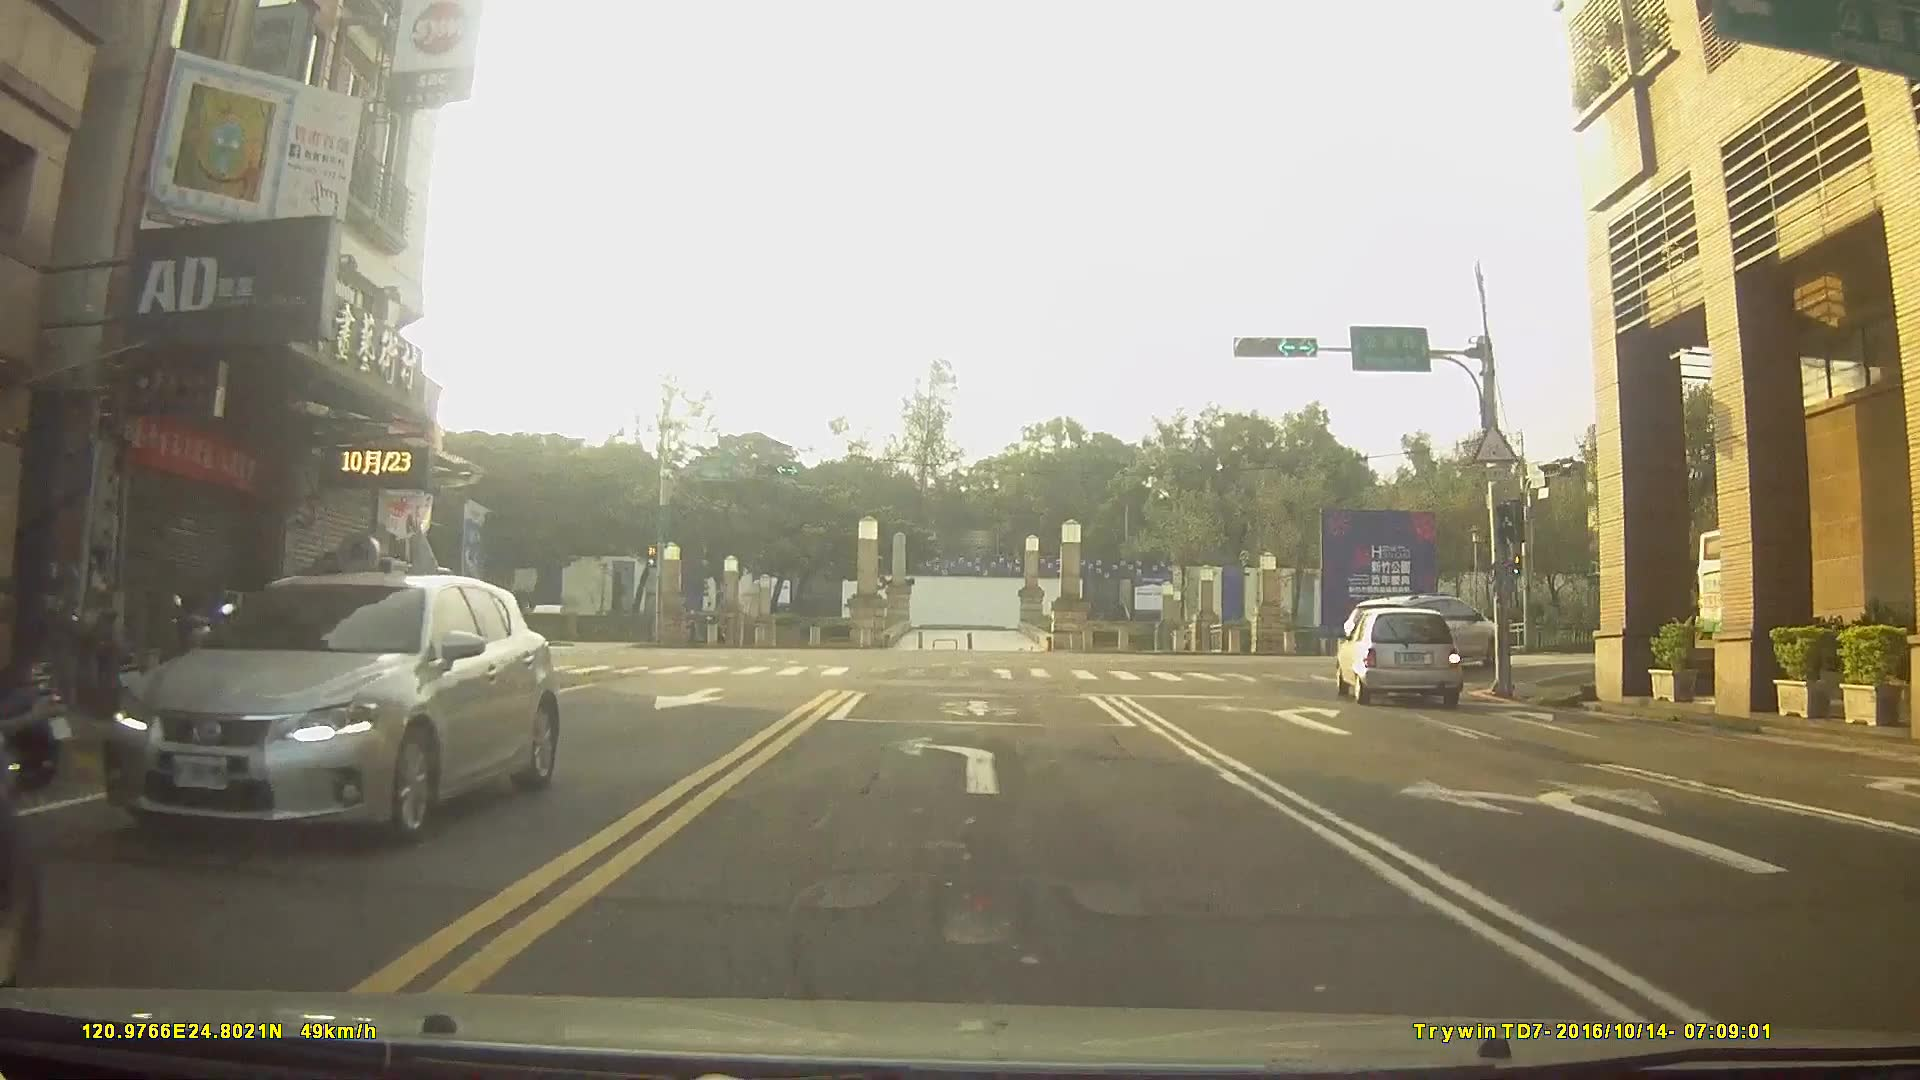vehicle: (99, 571, 556, 845), (1342, 592, 1505, 673), (1333, 608, 1462, 708)
